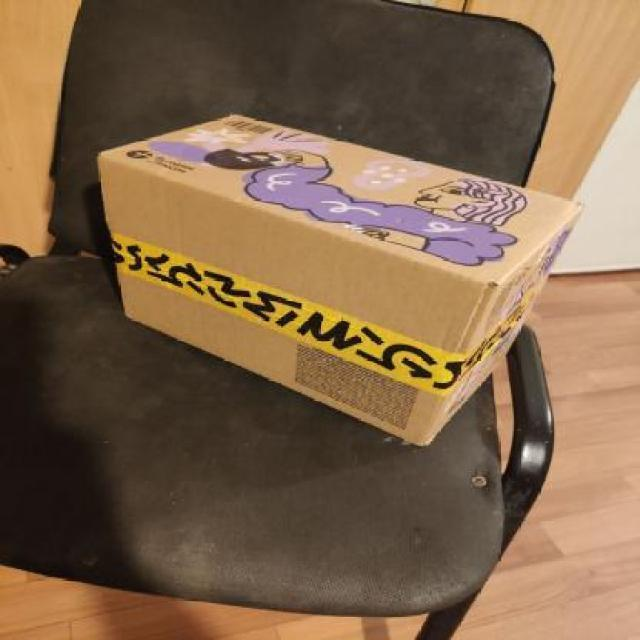box: (94, 104, 580, 450)
